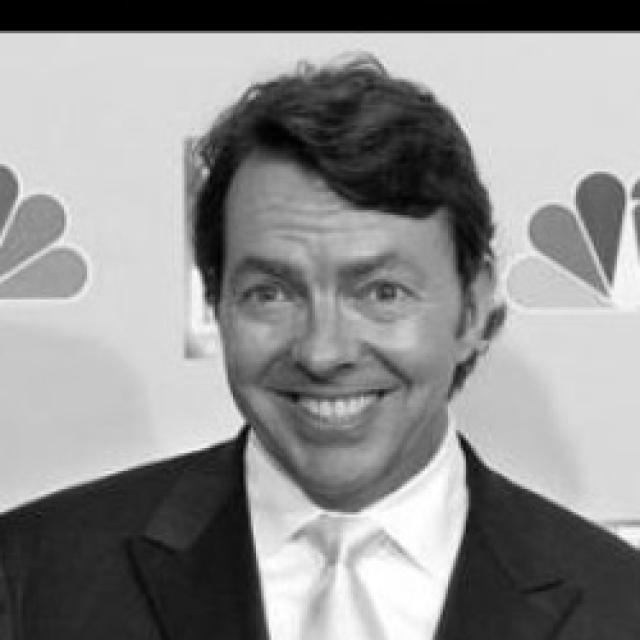real: (216, 147, 480, 504), (233, 258, 420, 324)
